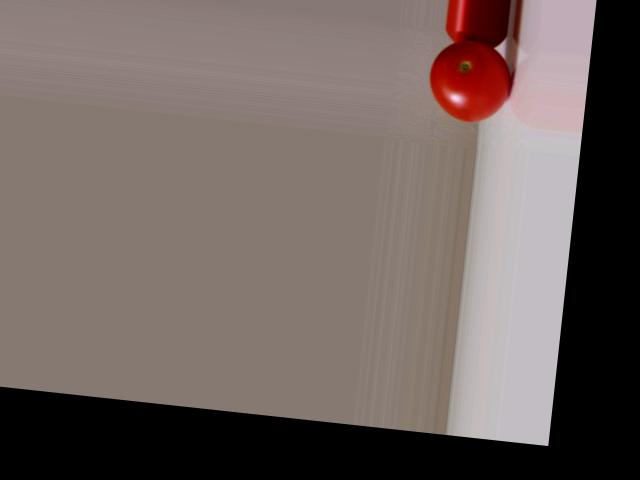tomato: (426, 37, 514, 125)
